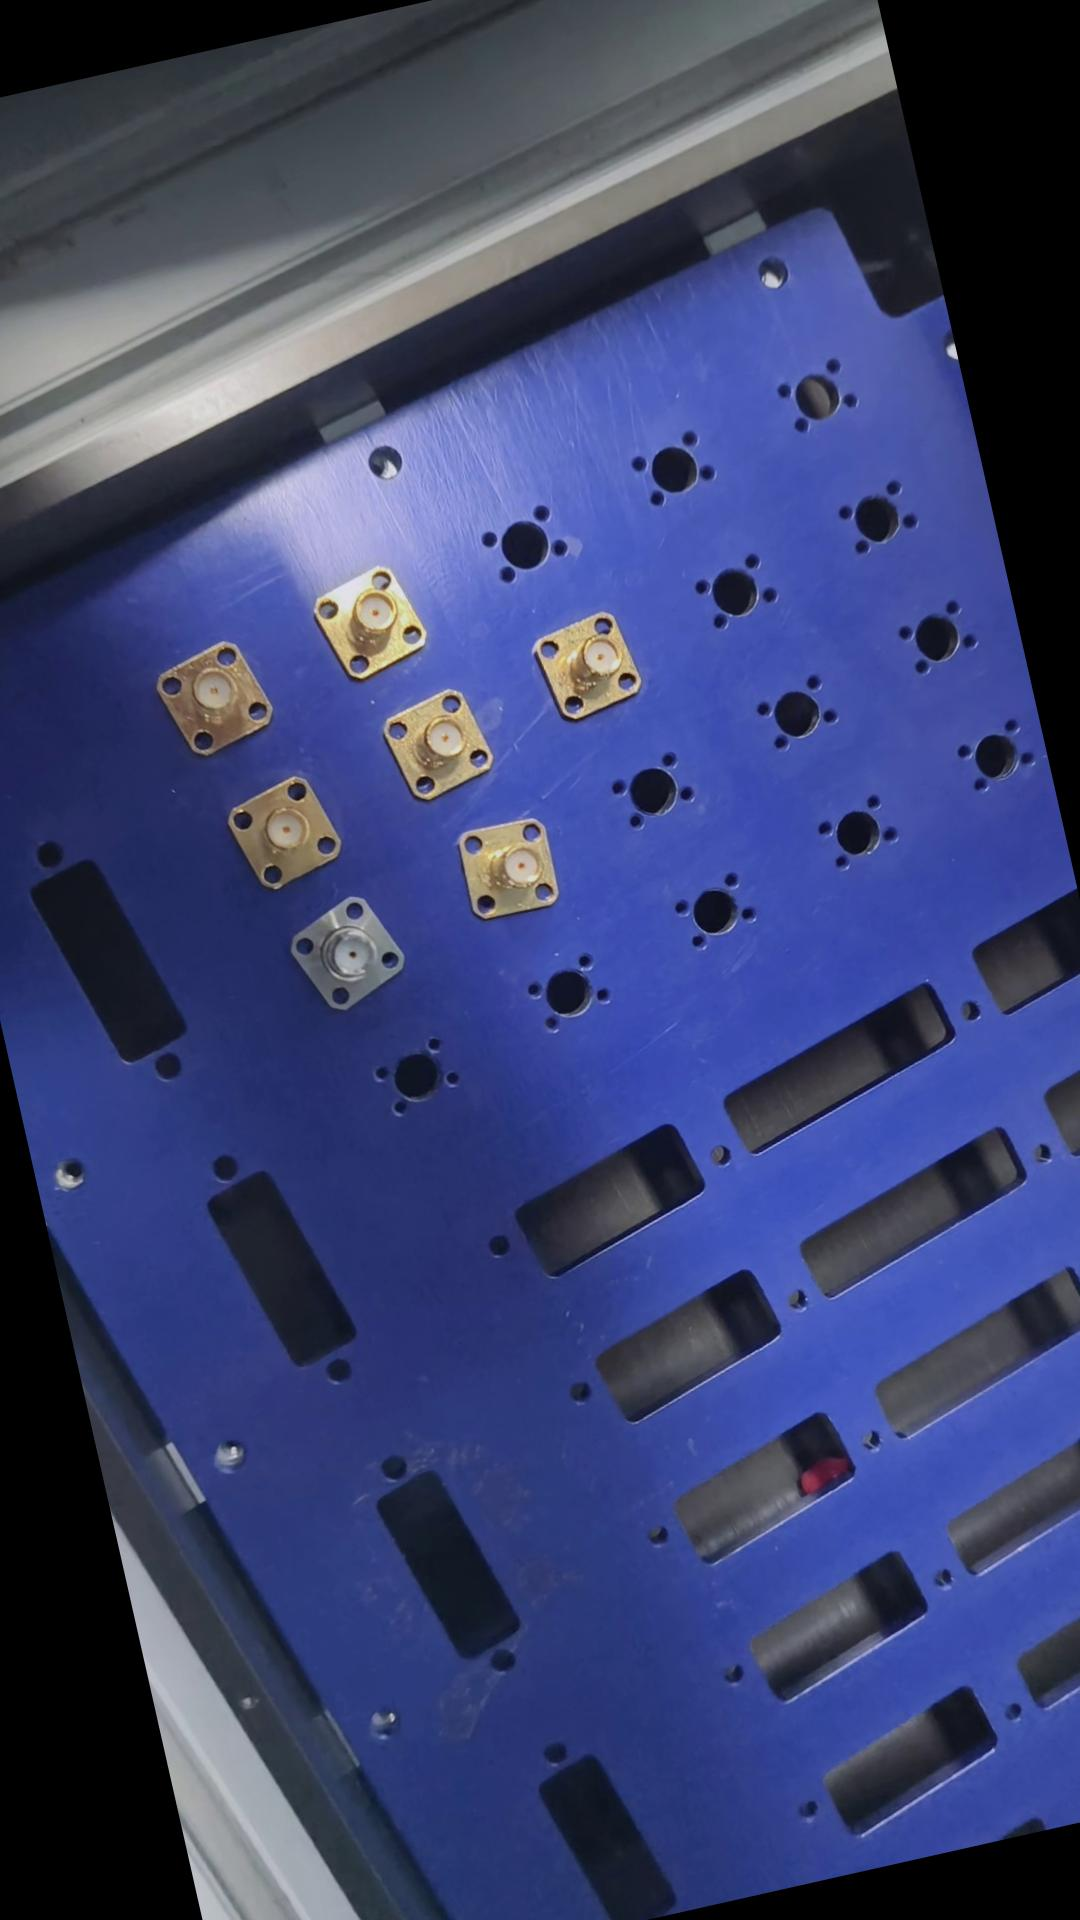SMA: (145, 634, 287, 766), (282, 887, 422, 1015), (307, 554, 444, 683), (224, 767, 356, 894), (446, 807, 576, 932), (376, 684, 508, 804), (531, 603, 651, 731)
